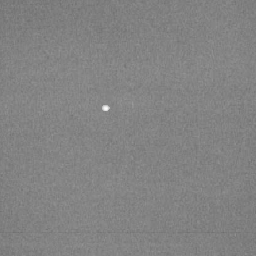Target: (100, 103, 111, 112)
